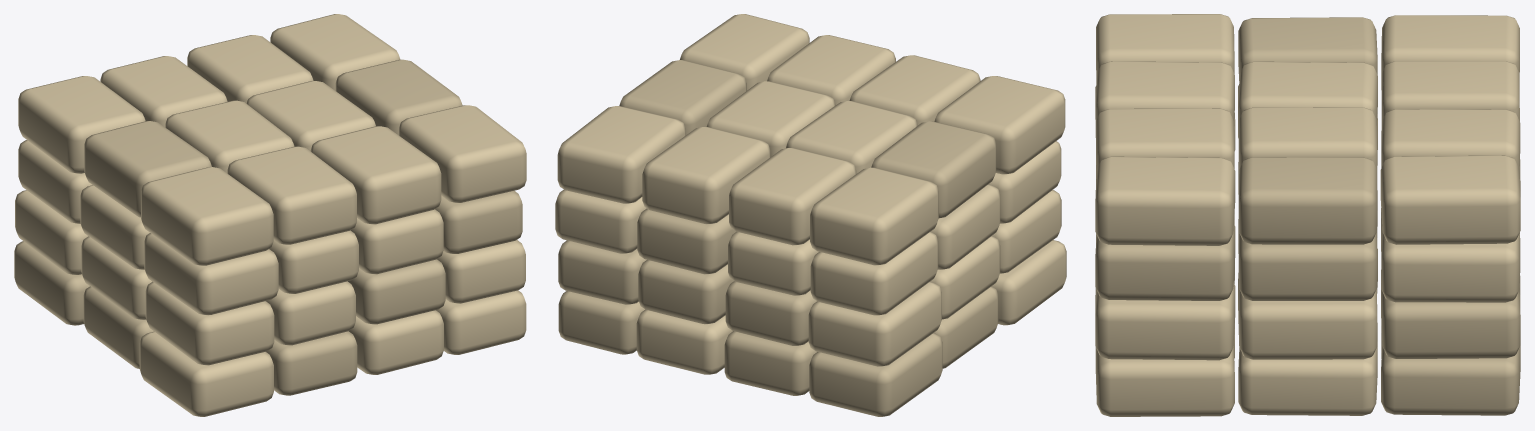
Rendered from JPN-23.glb.
The picture shows the model from 3 angles, left to right: view 1: azimuth 30°, elevation 25°; view 2: azimuth 150°, elevation 25°; view 3: azimuth 270°, elevation 25°; orthographic projection. The views are drawn at different scales.
Parts seen in each view (by area): view 1: handmade block.036, handmade block.045, handmade block.039, handmade block.042, handmade block.038, handmade block, handmade block.037, handmade block.024, handmade block.012, handmade block.047, handmade block.046, handmade block.044 (+18 smaller); view 2: handmade block.038, handmade block.044, handmade block.047, handmade block.041, handmade block.036, handmade block.014, handmade block.002, handmade block.037, handmade block.026, handmade block.045, handmade block.046, handmade block.040 (+18 smaller); view 3: handmade block.047, handmade block.045, handmade block.046, handmade block.021, handmade block.022, handmade block.035, handmade block.009, handmade block.011, handmade block.023, handmade block.010, handmade block.034, handmade block.033 (+9 smaller).
Boxes of the visible parts, x1,y1,x2,y2 form: handmade block.036: (141, 167, 273, 265); handmade block.045: (399, 105, 526, 202); handmade block.039: (227, 146, 356, 244); handmade block.042: (310, 126, 441, 224); handmade block.038: (18, 76, 145, 173); handmade block: (139, 331, 273, 416); handmade block.037: (84, 121, 211, 217); handmade block.024: (144, 233, 278, 315); handmade block.012: (145, 281, 274, 365); handmade block.047: (270, 14, 400, 90); handmade block.046: (335, 59, 462, 135); handmade block.044: (187, 35, 313, 103); handmade block.038: (810, 167, 938, 265); handmade block.044: (642, 127, 770, 224); handmade block.047: (557, 106, 685, 203); handmade block.041: (729, 148, 856, 245); handmade block.036: (934, 76, 1065, 174); handmade block.014: (808, 282, 941, 366); handmade block.002: (809, 333, 942, 416); handmade block.037: (871, 121, 996, 218); handmade block.026: (810, 231, 938, 315); handmade block.045: (680, 14, 809, 90); handmade block.046: (619, 60, 746, 135); handmade block.040: (786, 101, 917, 173); handmade block.047: (1380, 155, 1520, 244); handmade block.045: (1095, 156, 1235, 245); handmade block.046: (1238, 157, 1377, 244); handmade block.021: (1095, 283, 1235, 360); handmade block.022: (1238, 282, 1377, 359); handmade block.035: (1381, 226, 1519, 302); handmade block.009: (1095, 340, 1234, 416); handmade block.011: (1381, 345, 1520, 415); handmade block.023: (1381, 283, 1520, 358); handmade block.010: (1238, 342, 1377, 415); handmade block.034: (1239, 230, 1376, 300); handmade block.033: (1095, 224, 1235, 300).
Bounding box in the file's own units: 1.94 × 1.09 × 1.85.
